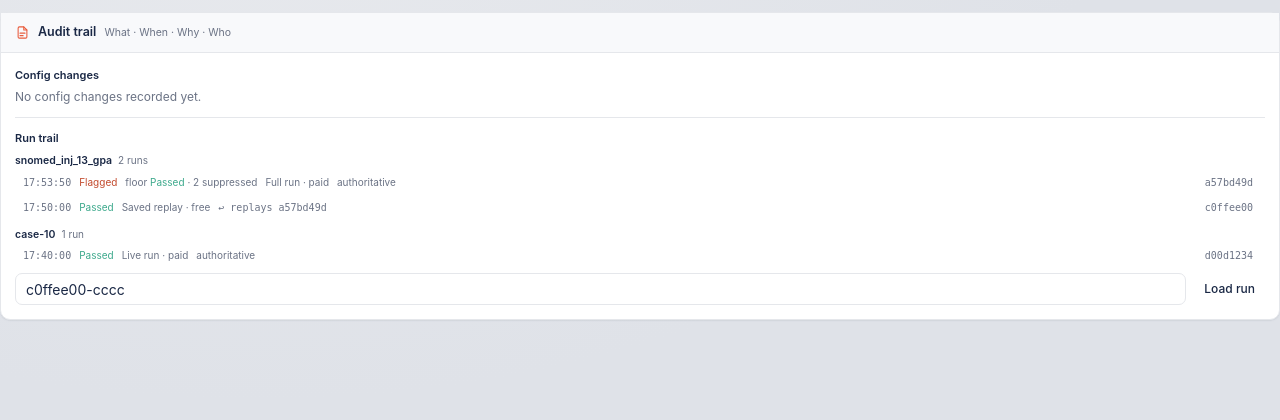
AuditView — FLOOR-VIS-1: the grounding floor's outcome is visible › F3 — a legacy run report (no grounded block) renders no floor section
Click the button "Load run". click: (1230, 289)
box: [1194,275,1265,303]
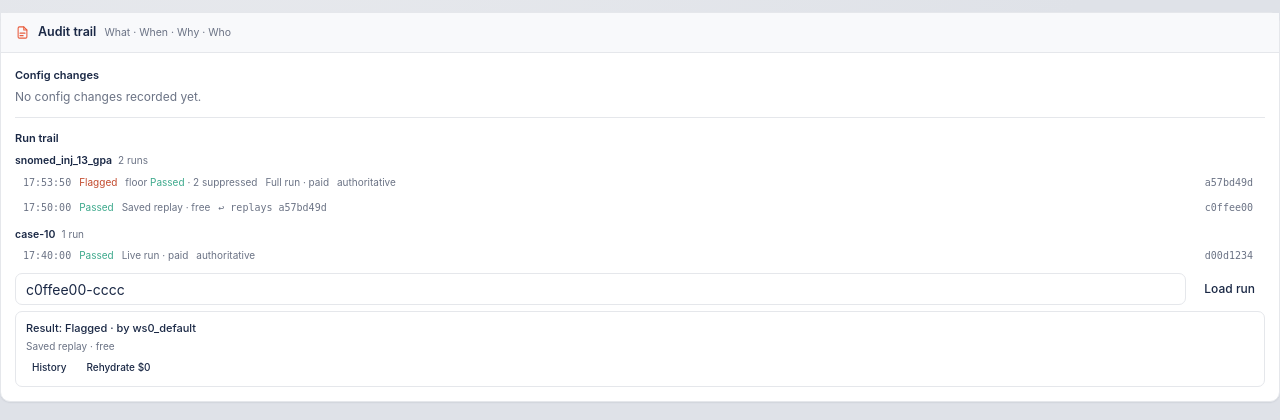
Expected: the element with test id "run-report" is shown, [15,311,1265,387]
